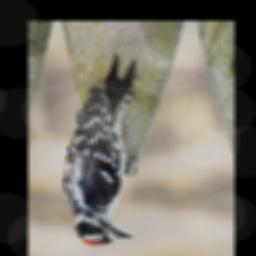Woodpecker: (59, 54, 136, 247)
